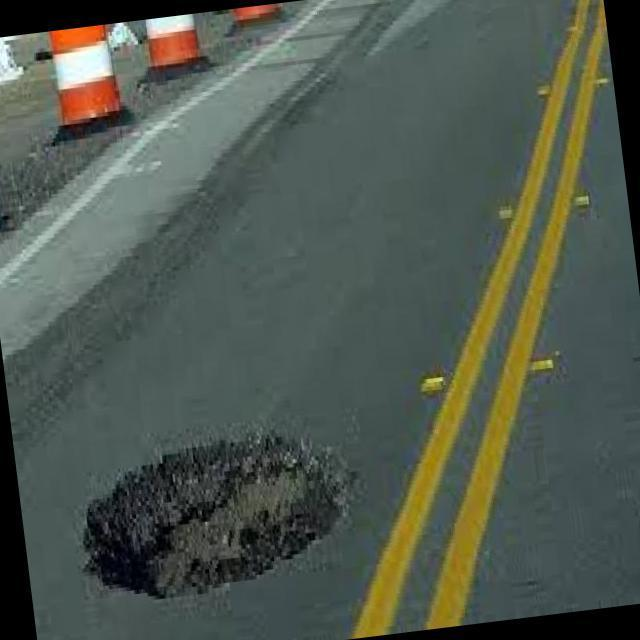Pothole: (80, 433, 350, 603)
